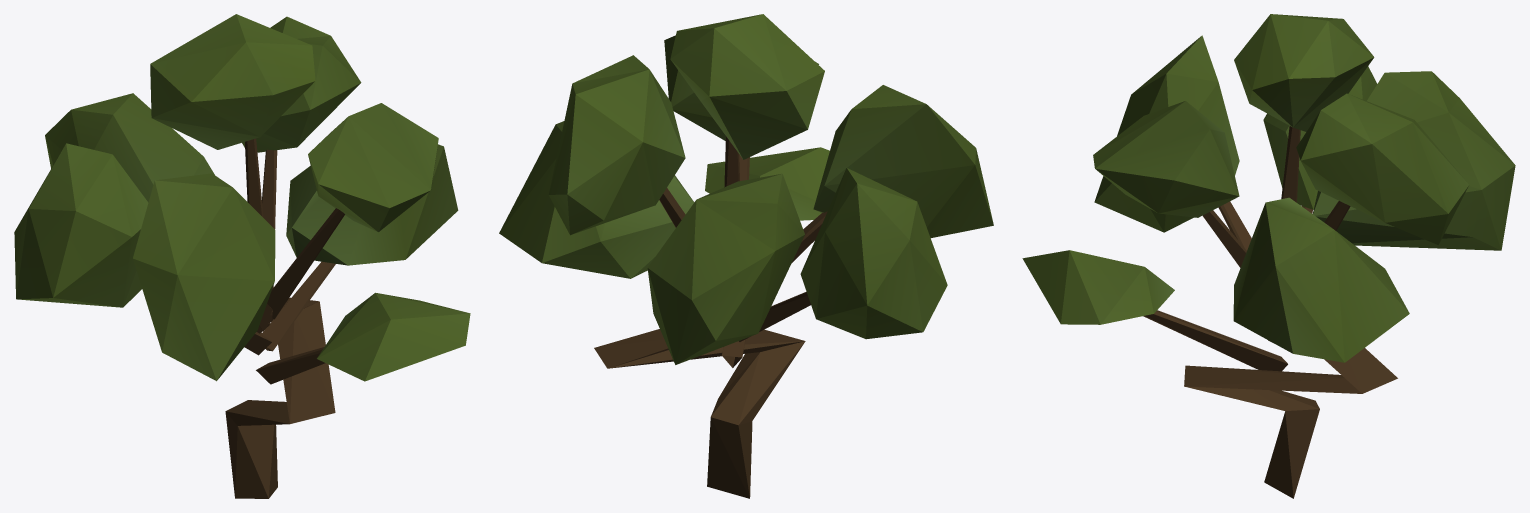
The model's file is oak_low.glb.
3 renders of one model, left to right at view 1: azimuth 30°, elevation 25°; view 2: azimuth 150°, elevation 25°; view 3: azimuth 270°, elevation 25°, orthographic. The views are drawn at different scales.
Parts seen in each view (by area): view 1: oak_low; view 2: oak_low; view 3: oak_low.
Part boxes in pixels (box(x1,y1,x2,y2)): oak_low: box(14, 14, 470, 498); oak_low: box(499, 14, 993, 498); oak_low: box(1022, 14, 1515, 498).
Bounding box in the file's own units: 2.42 × 2.6 × 2.48.
